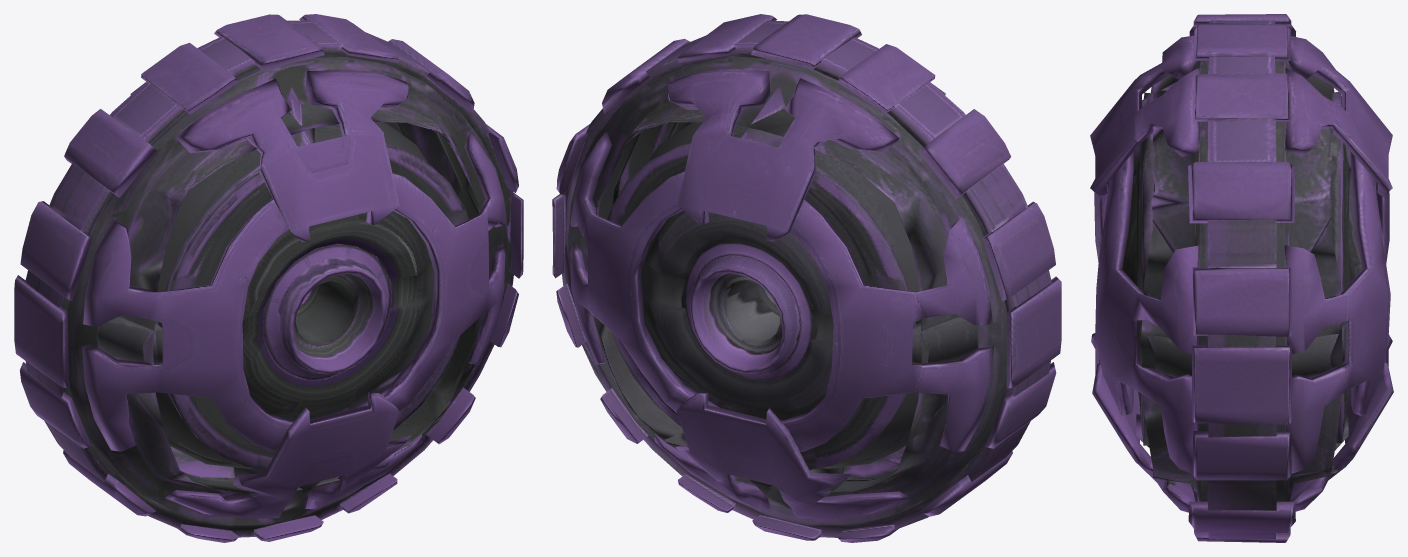
Rendered from purple.glb.
3 views of the same model, side by side, from view 1: azimuth 30°, elevation 25°; view 2: azimuth 150°, elevation 25°; view 3: azimuth 270°, elevation 25° (orthographic).
Visible parts, largest first — view 1: mesh_node; view 2: mesh_node; view 3: mesh_node.
Boxes of the visible parts, <box> form: mesh_node: <box>14,14,523,542</box>; mesh_node: <box>552,14,1061,542</box>; mesh_node: <box>1090,14,1393,542</box>.
Size of the model in its own units: 1 by 1 by 0.5723.
1 material, 1 textured.
